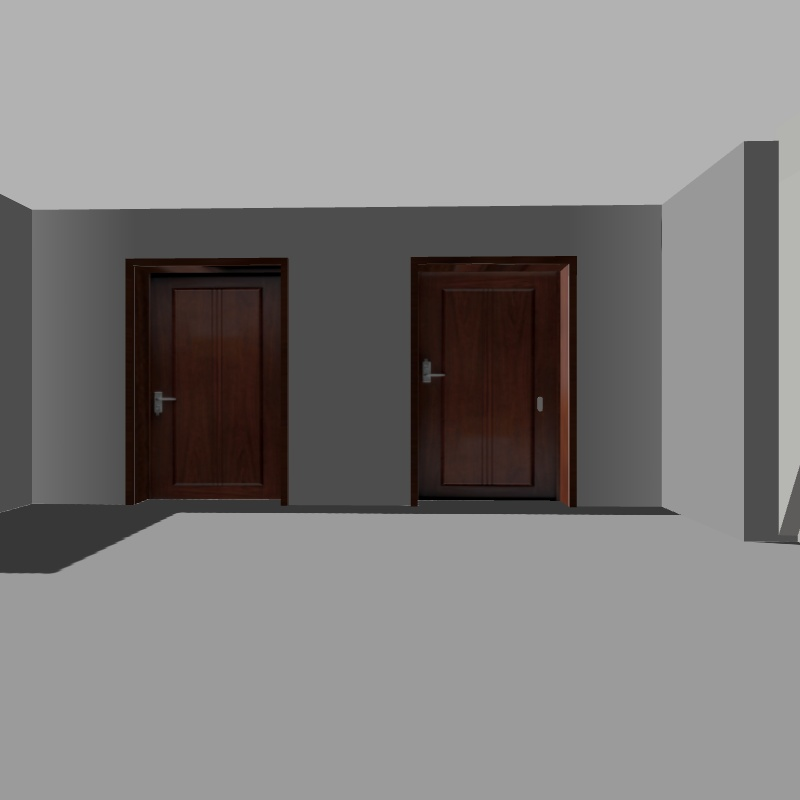handle: (144, 384, 179, 420), (413, 353, 450, 386)
